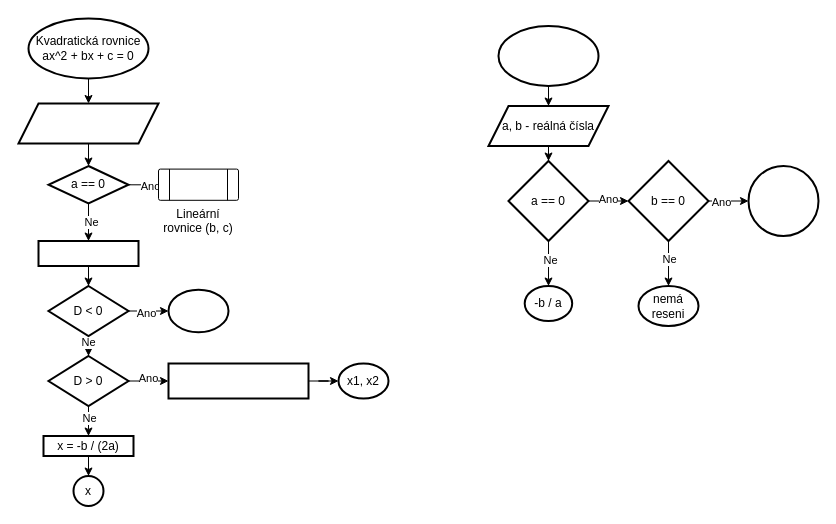
This 836x524 diagram has some shape labels left out. Here are the shapes that lost their labels. From the top down, the centre of each, then its label:
the point at 548,55: Lineární rovnice ax + b = 0
the point at 88,123: a, b, c - reálná čísla
the point at 783,200: nekonečně mnoho řešení
the point at 88,253: D = b^2 - 4ac
the point at 198,310: nemá řešení
the point at 238,380: x1 = (-b + odm(D)) / (2a) x2 = (-b - odm(D)) / (2a)
